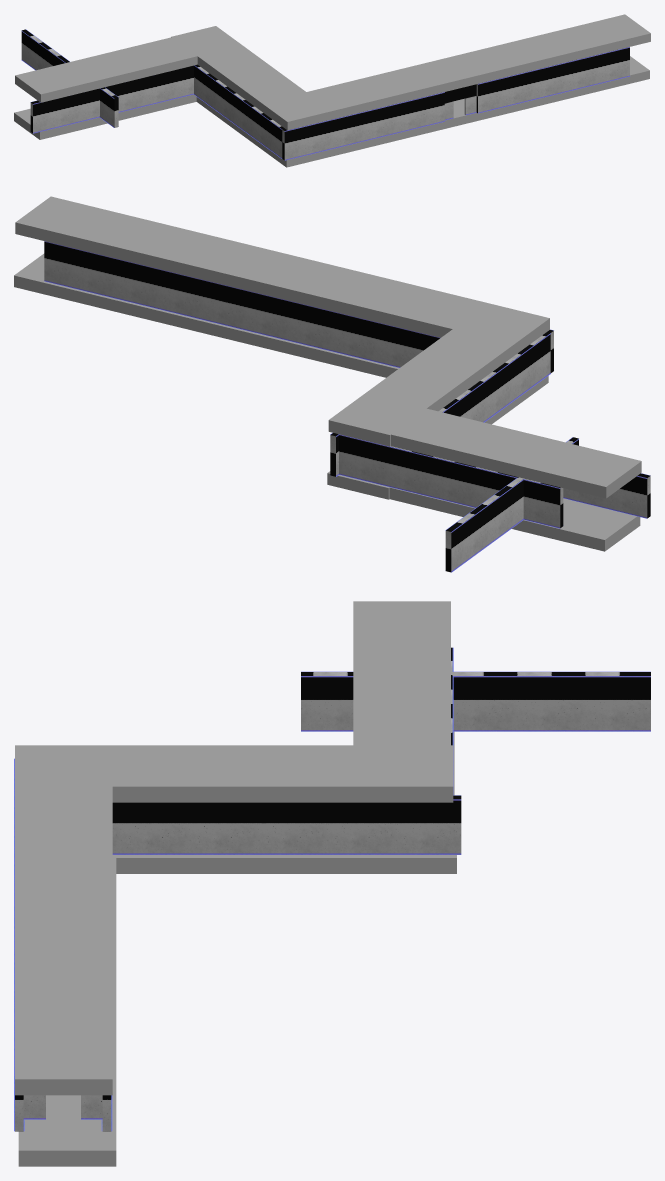
File: SM_2EntranceToLevel2.fbx
The picture shows the model from 3 angles, top to bottom: view 1: azimuth 30°, elevation 25°; view 2: azimuth 150°, elevation 25°; view 3: azimuth 270°, elevation 25°; orthographic projection. The views are drawn at different scales.
Visible parts, largest first — view 1: EntranceRoof1, EntranceRoof4, SM_Wall_01a46, SM_Wall_01a45, EntranceRoof2, SM_Wall_01a50, EntranceFloor1, SM_Wall_01a47, SM_Wall_01a51, EntranceFloor3, SM_SingleDoor_01a7, EntranceFloor2; view 2: EntranceRoof1, SM_Wall_01a44, EntranceRoof4, EntranceRoof2, EntranceRoof3, EntranceFloor1, EntranceFloor3, SM_Wall_01a47, SM_Wall_01a51, SM_Wall_01a50, EntranceFloor2; view 3: EntranceRoof1, EntranceRoof2, SM_Wall_01a48, SM_Wall_01a51, EntranceRoof4, EntranceFloor1, EntranceFloor2, SM_DoubleDoor_01a9.
Part boxes in pixels (box(x1,y1,x2,y2)): EntranceRoof1: box(261, 14, 650, 130); EntranceRoof4: box(15, 37, 197, 102); SM_Wall_01a46: box(282, 92, 444, 160); SM_Wall_01a45: box(476, 47, 629, 113); EntranceRoof2: box(171, 26, 305, 110); SM_Wall_01a50: box(30, 65, 193, 133); EntranceFloor1: box(260, 56, 649, 167); SM_Wall_01a47: box(194, 64, 284, 158); SM_Wall_01a51: box(21, 29, 118, 127); EntranceFloor3: box(14, 94, 196, 139); SM_SingleDoor_01a7: box(444, 84, 476, 120); EntranceFloor2: box(196, 97, 260, 148); EntranceRoof1: box(15, 196, 549, 355); SM_Wall_01a44: box(44, 241, 440, 367); EntranceRoof4: box(391, 408, 641, 498); EntranceRoof2: box(328, 329, 514, 446); EntranceRoof3: box(339, 434, 563, 528); EntranceFloor1: box(14, 253, 548, 408); EntranceFloor3: box(389, 487, 640, 551); SM_Wall_01a47: box(438, 332, 550, 422); SM_Wall_01a51: box(445, 437, 578, 572); SM_Wall_01a50: box(563, 473, 650, 518); EntranceFloor2: box(327, 402, 512, 499); EntranceRoof1: box(15, 745, 112, 1095); EntranceRoof2: box(112, 745, 453, 802); SM_Wall_01a48: box(112, 795, 461, 854); SM_Wall_01a51: box(301, 671, 650, 731); EntranceRoof4: box(353, 601, 450, 745); EntranceFloor1: box(18, 855, 116, 1166); EntranceFloor2: box(116, 855, 456, 873); SM_DoubleDoor_01a9: box(23, 1095, 102, 1119).
Size of the model in its own units: 6549 by 550 by 3639.
